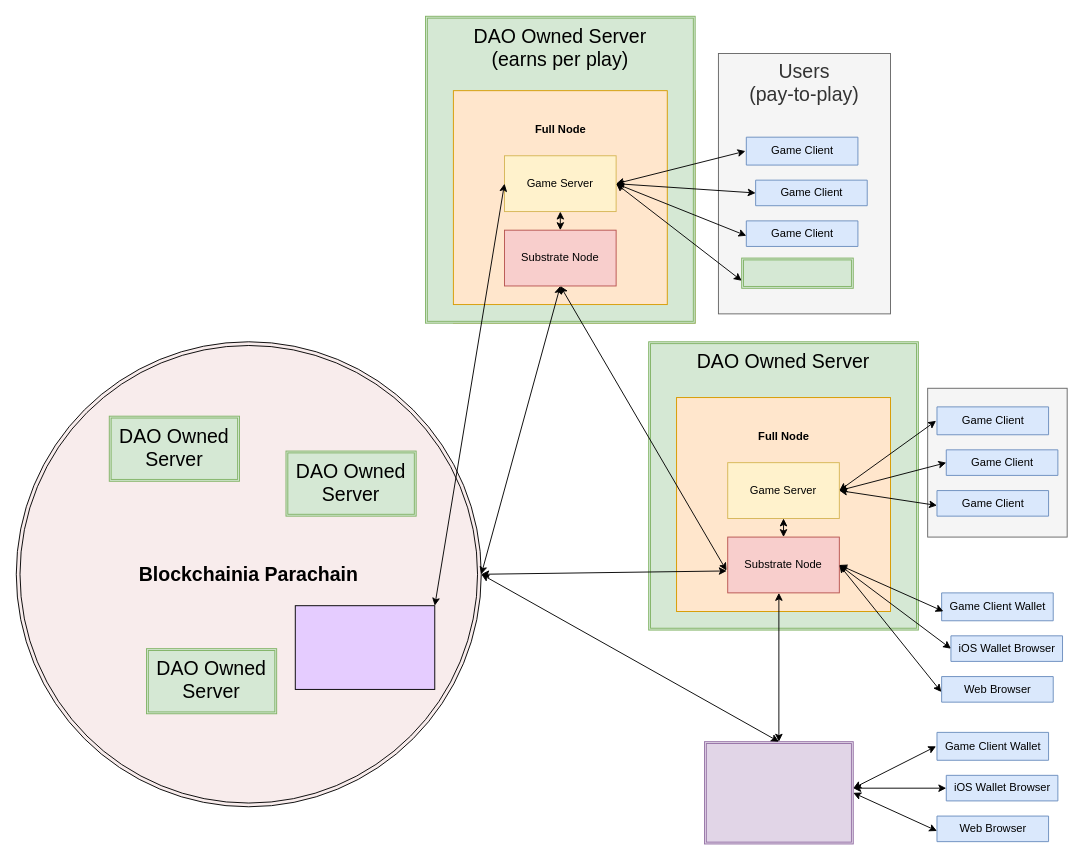
This 1083x860 diagram has some shape labels left out. The centre of each missing label's shape, as x and y in pixels:
Game Client (Admin): (x=797, y=272)
Game Distribution Node: (x=364, y=647)
ink! Smart Contracts Wallet Explorer: (x=778, y=792)
